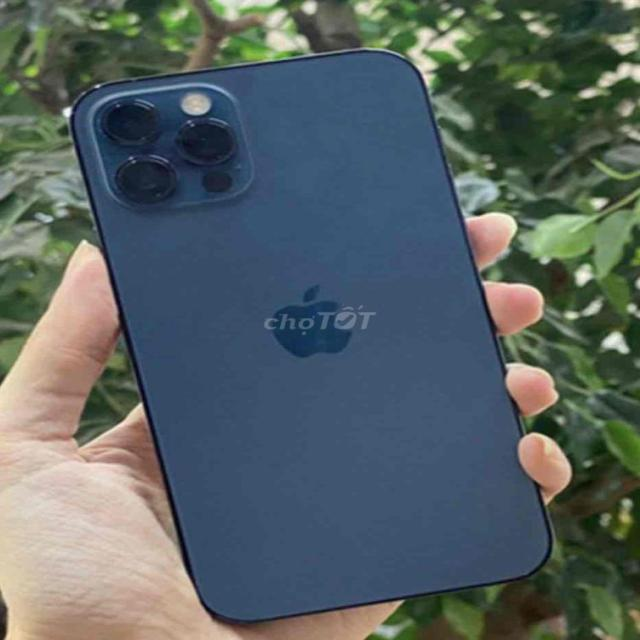gen_12_13: (71, 46, 544, 626)
